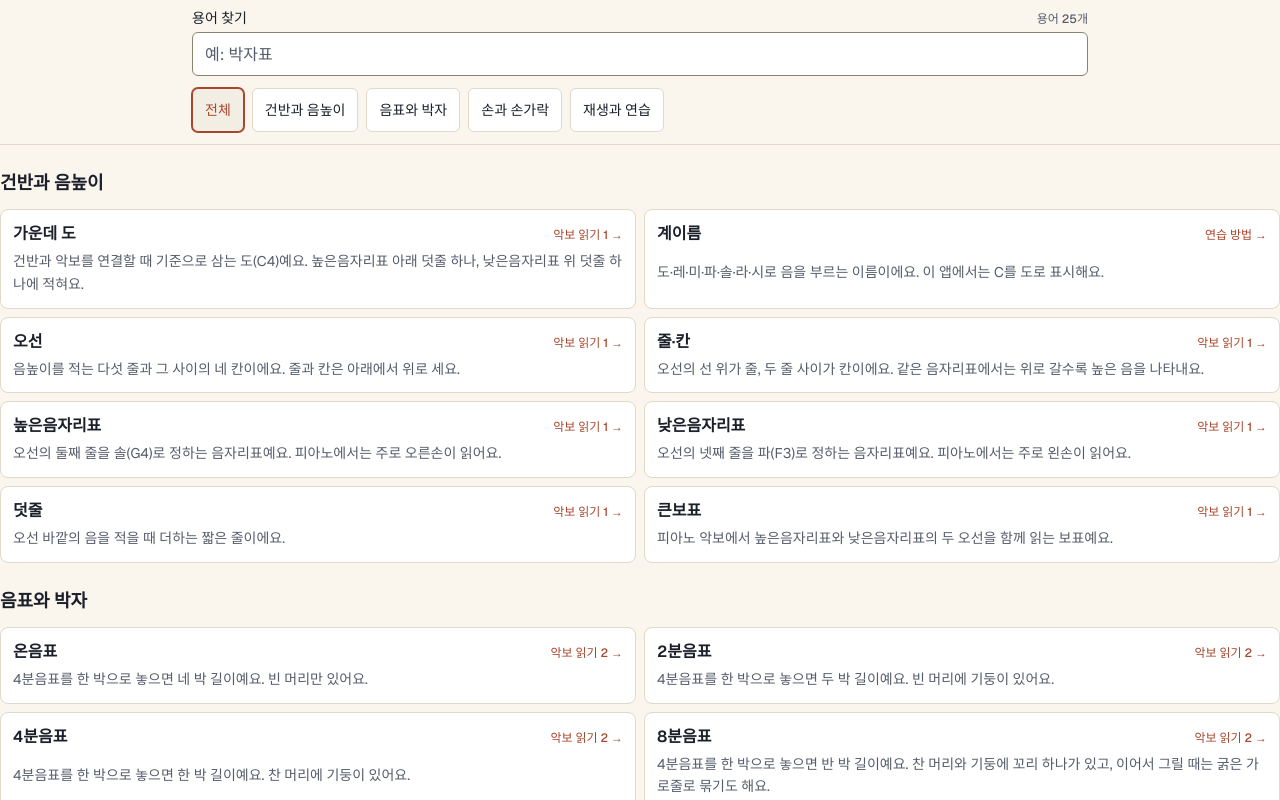
it: GlossaryExplorer › updates term list and status on search input without saving to localStorage
This screenshot has width=1280, height=800.
Type "박자" into the search field labelled "용어 찾기" at (640, 54), box [192,32,1088,76]
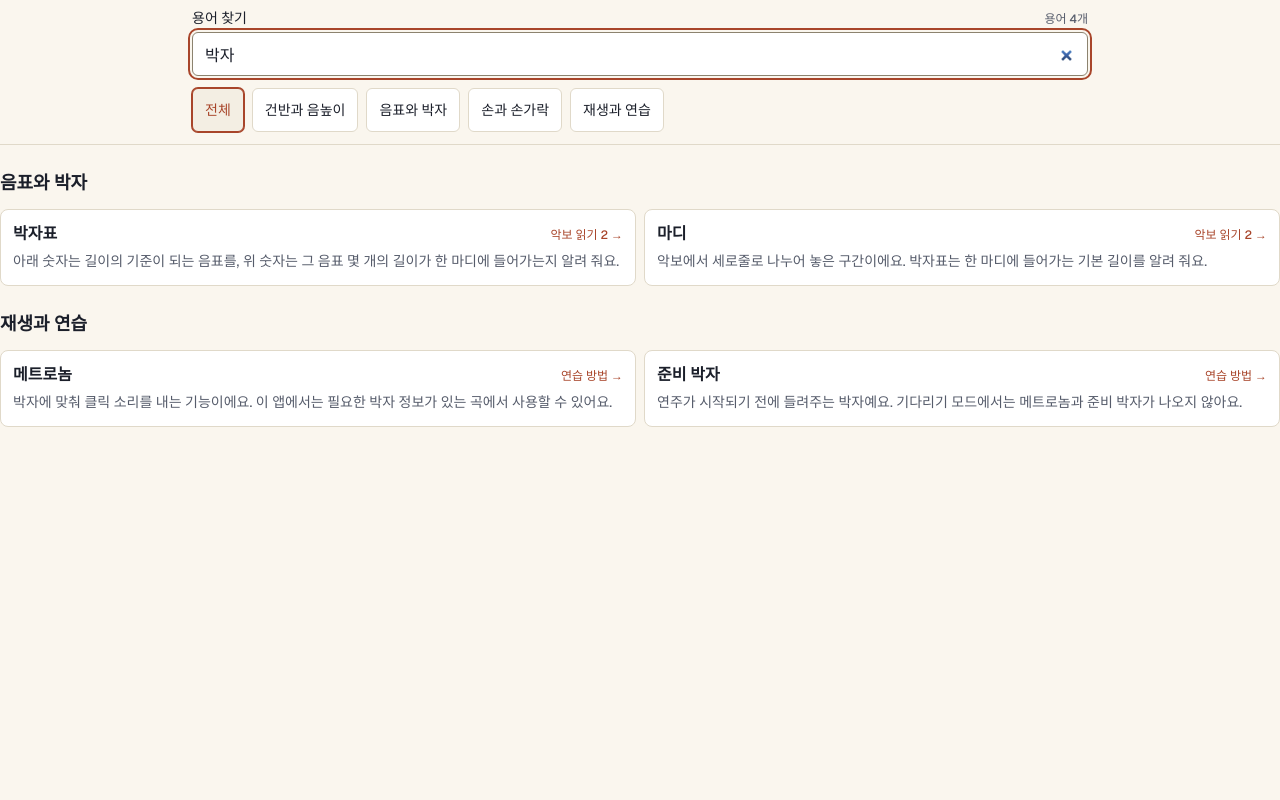
Expected: the element with id "term-time-signature" is shown, [0,209,636,286]
Result: the message reads "용어 4개" at [1044,11,1088,27]
Result: the element with id "term-middle-c" is gone
